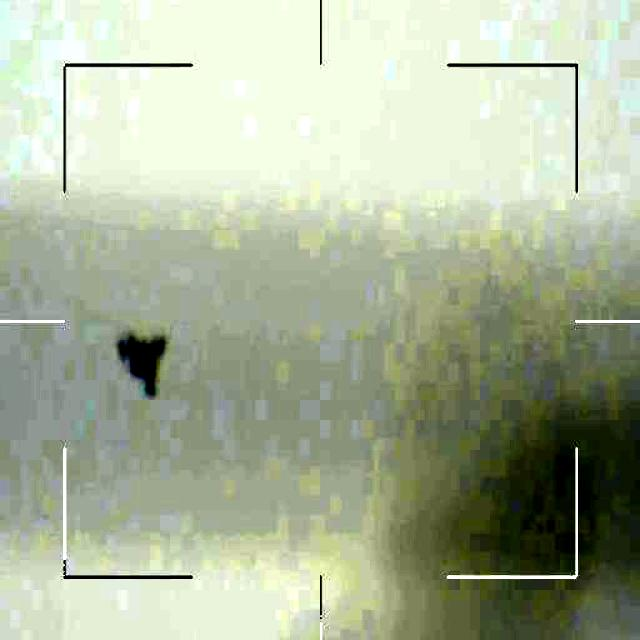bird: (112, 312, 181, 395)
